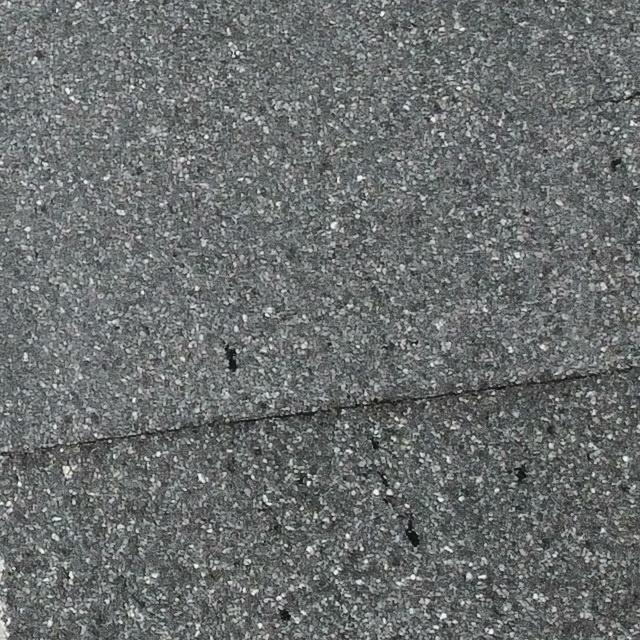TransverseCrack: (1, 364, 640, 456)
